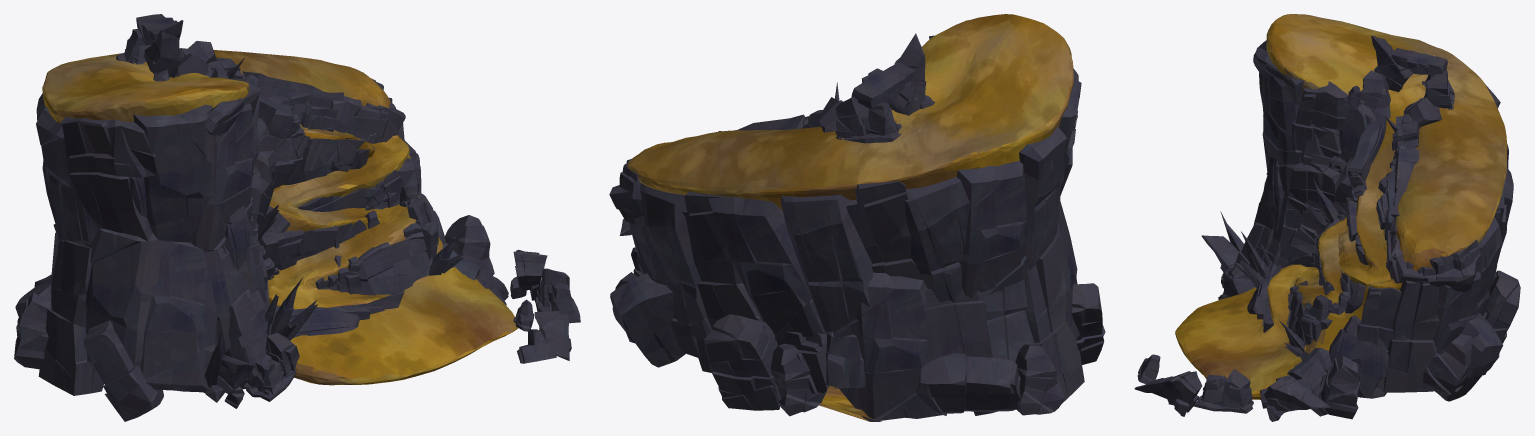
The model's file is Island01_lighthouse01.fbx.
The picture shows the model from 3 angles, left to right: view 1: azimuth 30°, elevation 25°; view 2: azimuth 150°, elevation 25°; view 3: azimuth 270°, elevation 25°; orthographic projection. The views are drawn at different scales.
Parts seen in each view (by area): view 1: Island_01; view 2: Island_01; view 3: Island_01.
Part boxes in pixels (bbox=[...]): Island_01: bbox=[14, 14, 580, 421]; Island_01: bbox=[609, 14, 1105, 421]; Island_01: bbox=[1134, 14, 1520, 421].
Bounding box in the file's own units: 61.45 × 41.57 × 51.18.
2 materials, 2 textured.
